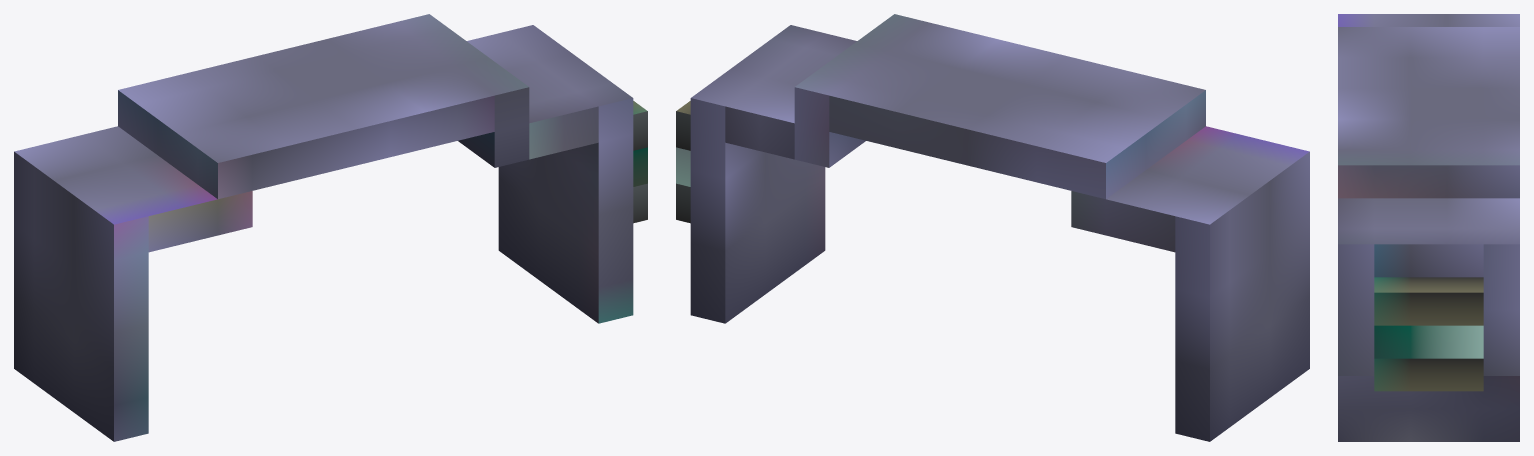
File: Scooter_Big_F_00.fbx
The picture shows the model from 3 angles, left to right: view 1: azimuth 30°, elevation 25°; view 2: azimuth 150°, elevation 25°; view 3: azimuth 270°, elevation 25°; orthographic projection. The views are drawn at different scales.
Parts seen in each view (by area): view 1: Scooter_Big_F_00; view 2: Scooter_Big_F_00; view 3: Scooter_Big_F_00.
Part boxes in pixels (x1,y1,x2,y2): Scooter_Big_F_00: [14, 14, 647, 441]; Scooter_Big_F_00: [676, 14, 1309, 441]; Scooter_Big_F_00: [1338, 14, 1519, 441].
Bounding box in the file's own units: 80 × 35 × 25.
